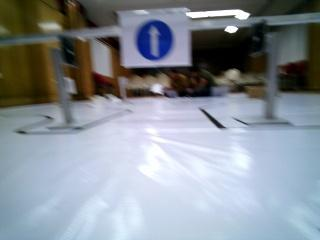straight: (120, 12, 192, 66)
